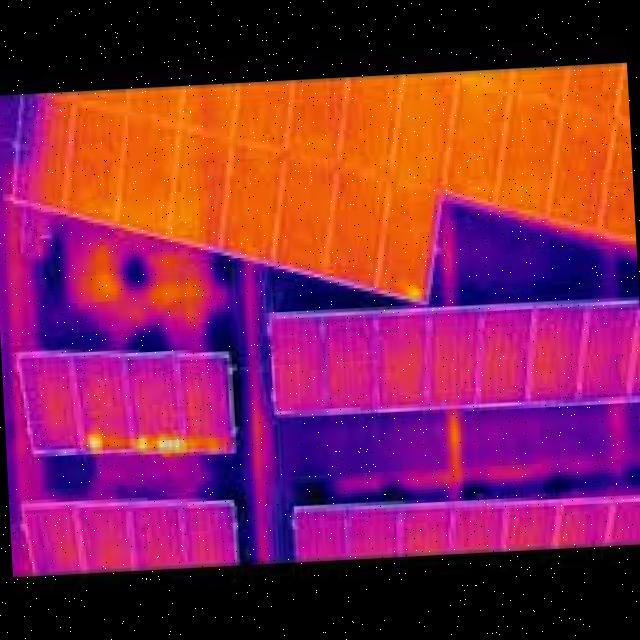Hotspot: (134, 436, 184, 454), (87, 427, 108, 455), (398, 284, 424, 306)
